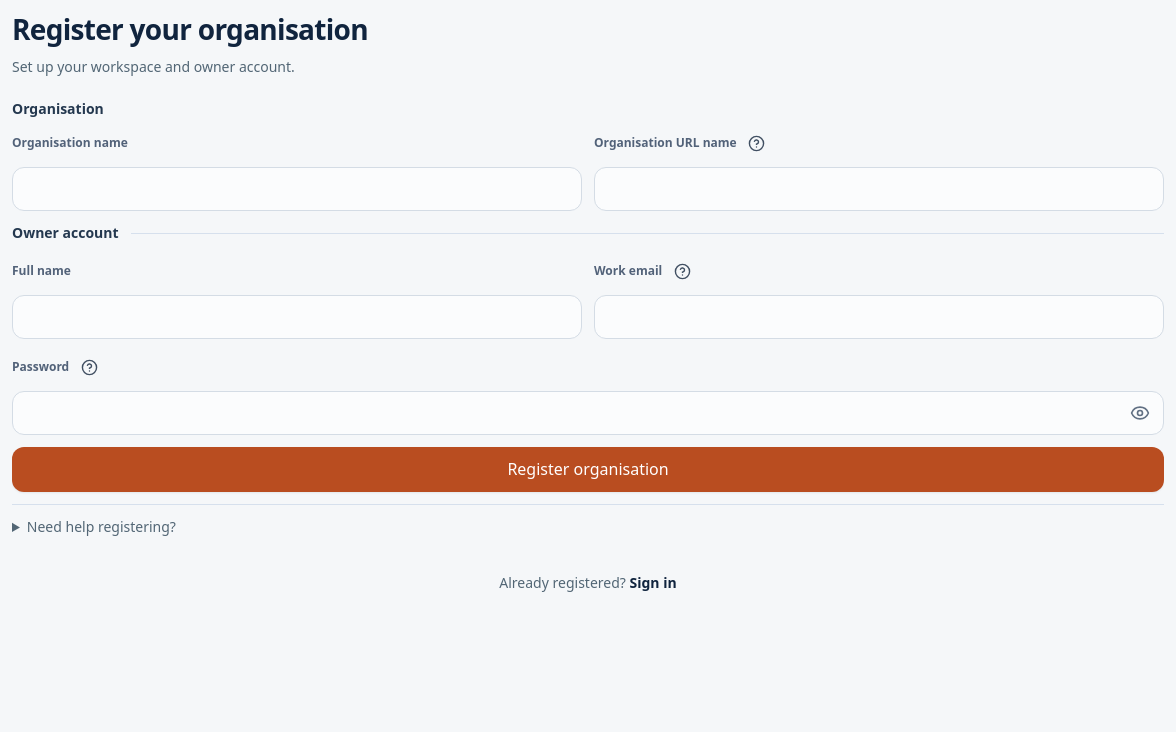
Test: authentication guidance › removes generic sign-in help while keeping useful registration requirements
The image size is (1176, 732).
Expected: the text "Sign in to your engineering workspace." is shown, [12,57,295,76]
Click the button named "Password guidance" at (89, 367), box [73,351,105,383]
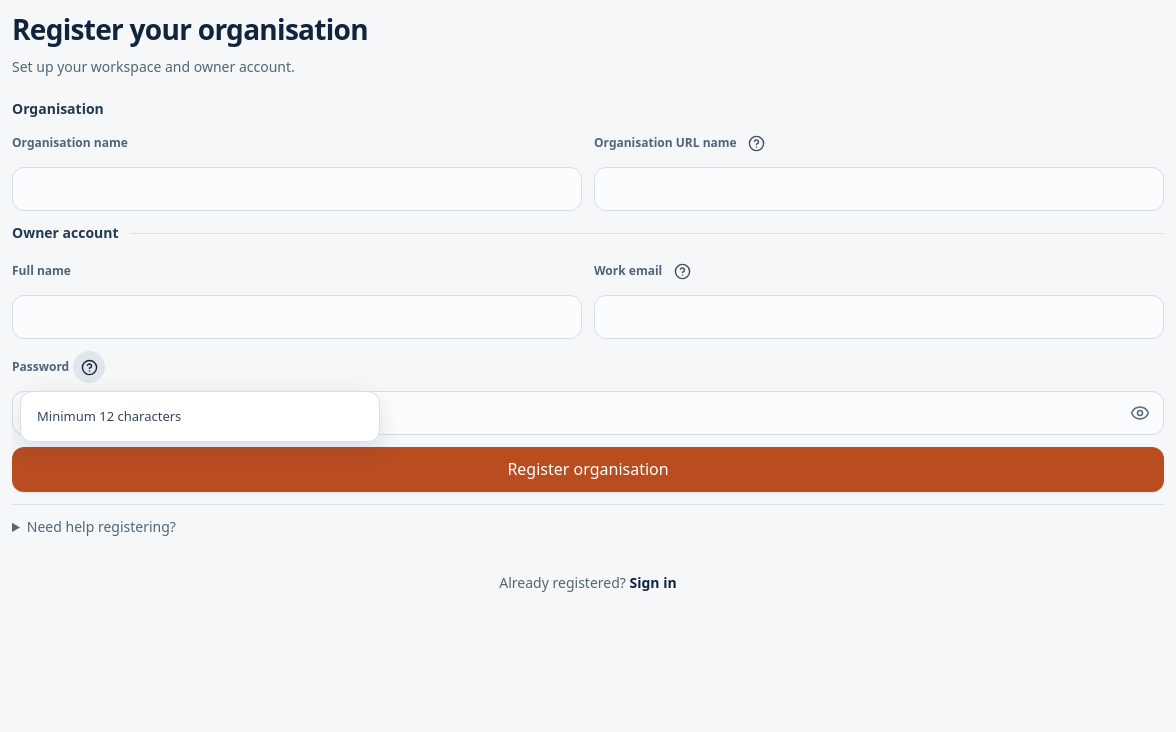
Result: the tooltip reads "Minimum 12 characters" at [37,407,181,425]
Press Escape in the button named "Password guidance", box [73,351,105,383]
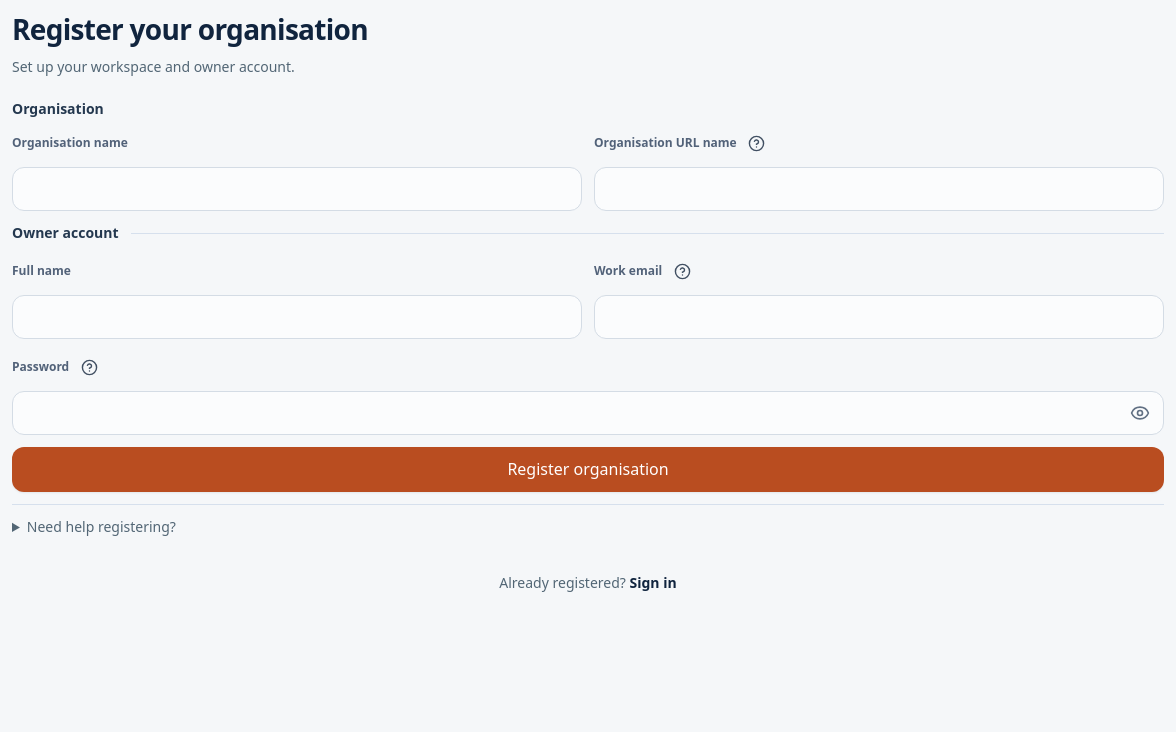
Click the button named "Work email guidance" at (682, 271), box [666,255,698,287]
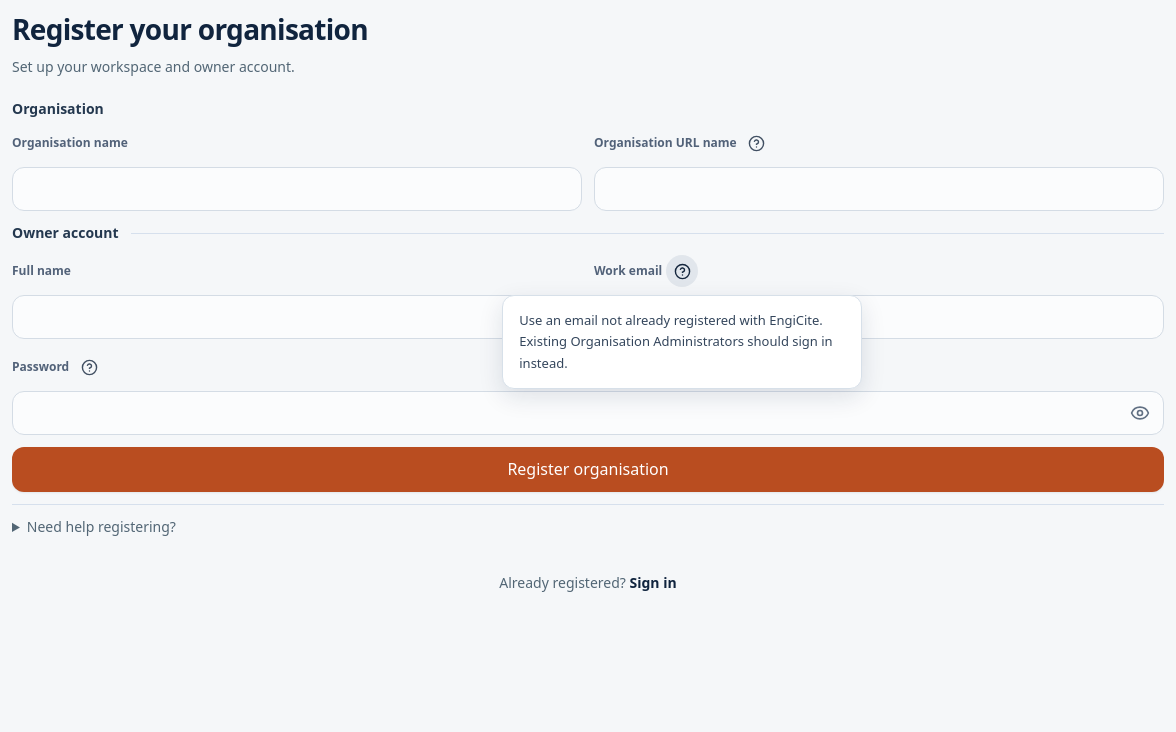
Result: the tooltip shows "Use an email not already registered" at [519,311,833,372]
